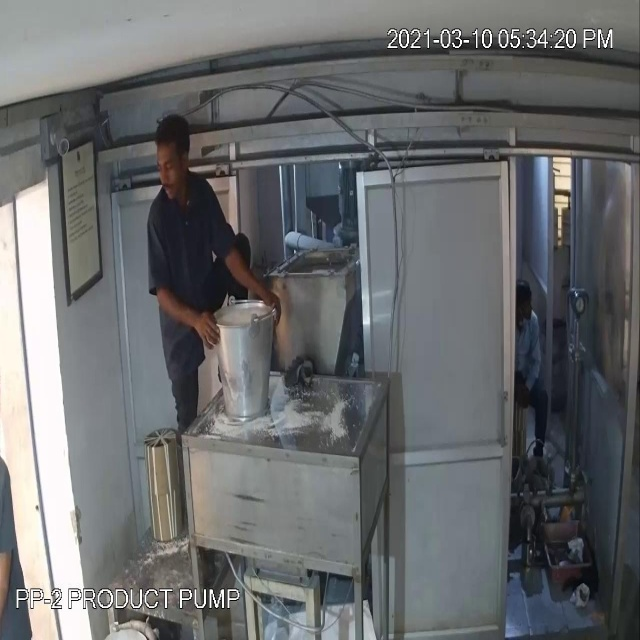Sin_guantes: (140, 265, 227, 371), (215, 229, 284, 326)
